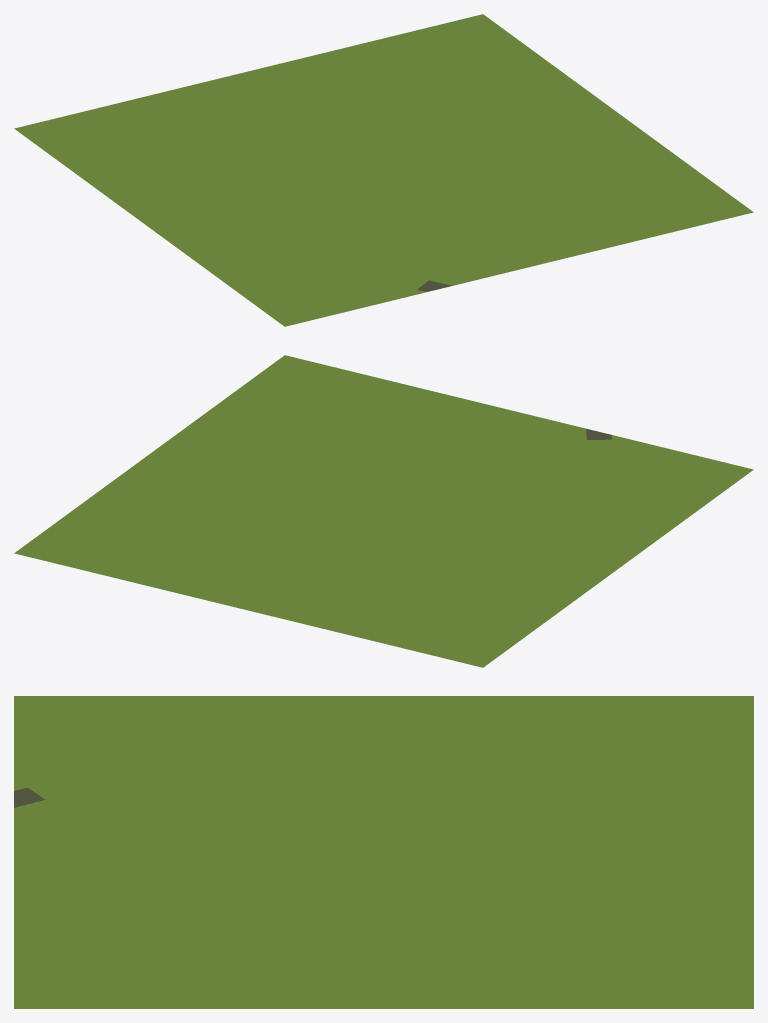
The model's file is cure-16-0.glb.
3 views of the same model, one above another, from view 1: azimuth 30°, elevation 25°; view 2: azimuth 150°, elevation 25°; view 3: azimuth 270°, elevation 25° (orthographic). The views are drawn at different scales.
Parts seen in each view (by area): view 1: cure-16-0; view 2: cure-16-0; view 3: cure-16-0.
Boxes of the visible parts, x1,y1,x2,y2 form: cure-16-0: (14, 14, 753, 326); cure-16-0: (14, 355, 753, 667); cure-16-0: (14, 696, 753, 1008).
Bounding box in the file's own units: 100 × 0.003 × 100.
